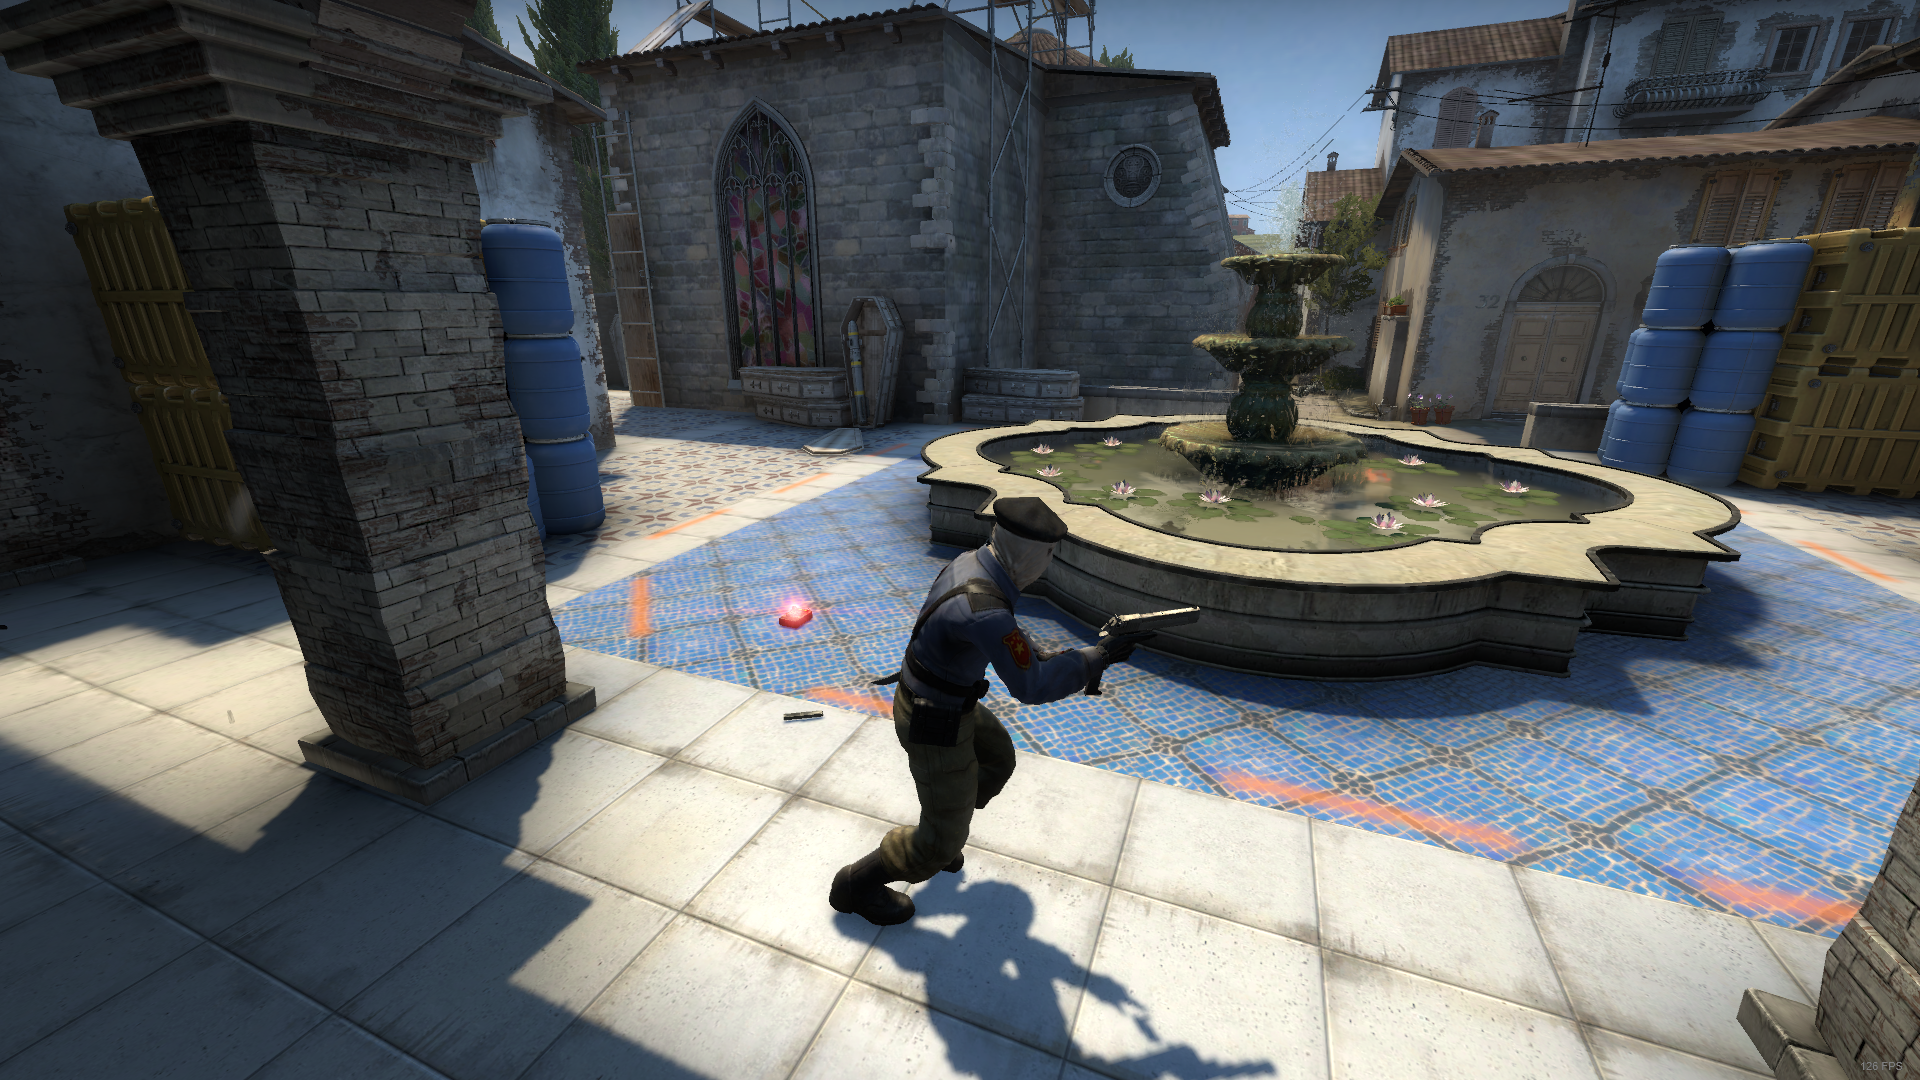t: (829, 498, 1142, 936)
